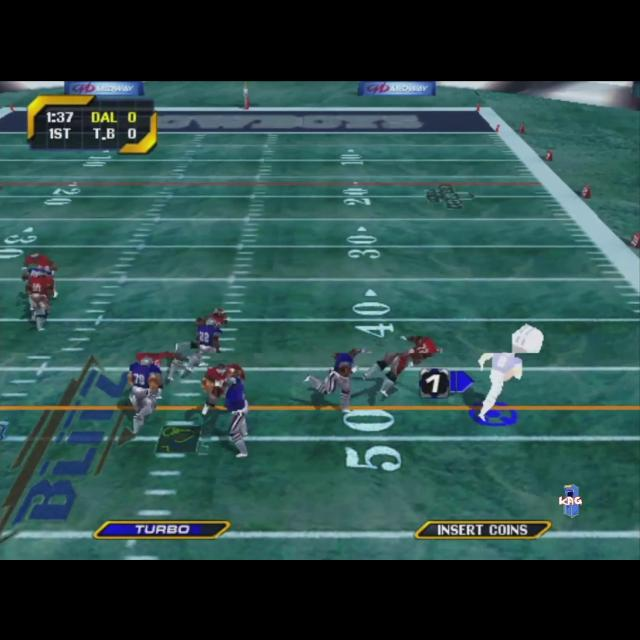player: (476, 322, 544, 422), (365, 333, 443, 397), (128, 352, 184, 434), (168, 307, 228, 383), (202, 364, 250, 456), (304, 346, 368, 412), (200, 362, 246, 413), (24, 268, 58, 329), (20, 252, 58, 280)
